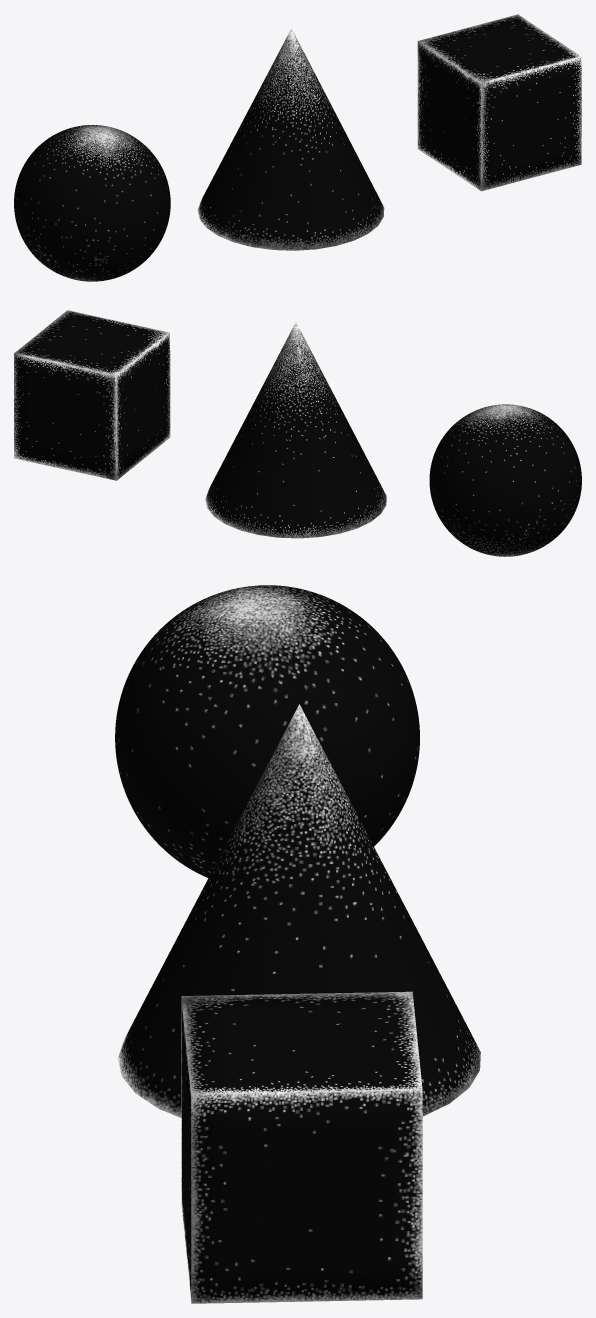
3 views of the same model, one above another, from view 1: azimuth 30°, elevation 25°; view 2: azimuth 150°, elevation 25°; view 3: azimuth 270°, elevation 25° (orthographic). The views are drawn at different scales.
Parts seen in each view (by area): view 1: 100export; view 2: 100export; view 3: 100export.
Boxes of the visible parts, x1,y1,x2,y2 form: 100export: (14, 14, 581, 281); 100export: (14, 310, 581, 556); 100export: (115, 585, 480, 1303).
Size of the model in its own units: 110 by 36.96 by 33.21.
1 material, 1 textured.
